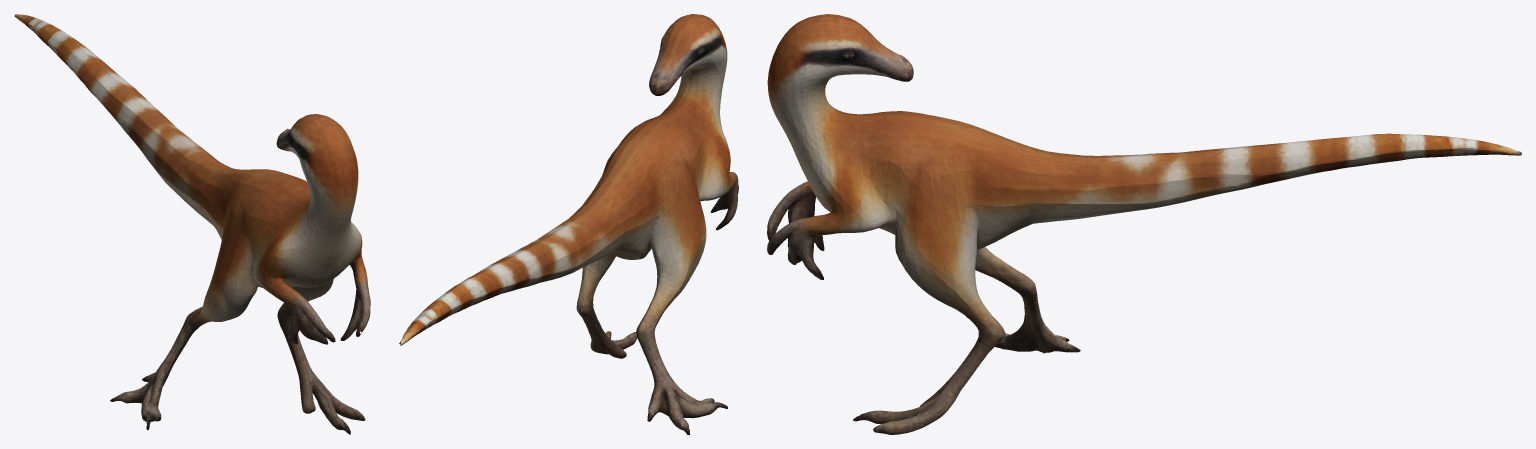
The picture shows the model from 3 angles, left to right: view 1: azimuth 30°, elevation 25°; view 2: azimuth 150°, elevation 25°; view 3: azimuth 270°, elevation 25°; orthographic projection. The views are drawn at different scales.
Parts seen in each view (by area): view 1: world; view 2: world; view 3: world.
Boxes of the visible parts, <box> form: world: <box>14,14,370,434</box>; world: <box>399,14,738,434</box>; world: <box>767,14,1521,434</box>.
Bounding box in the file's own units: 0.3006 × 0.5609 × 1.
1 material, 1 textured.
